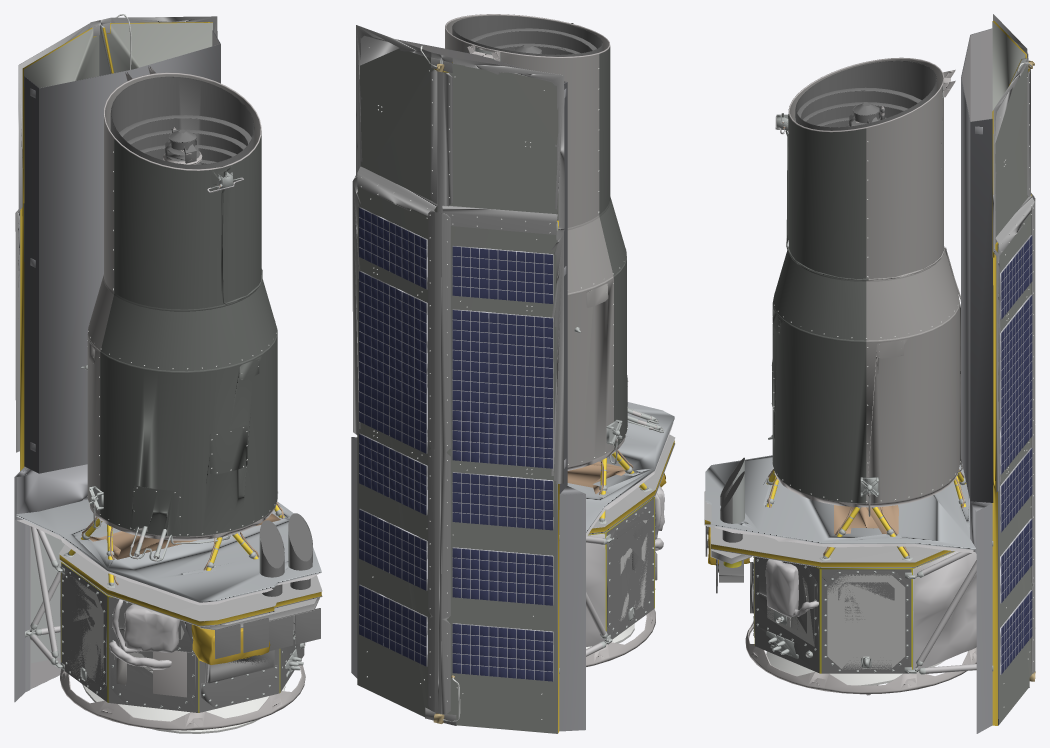
File: spitzer.glb
The picture shows the model from 3 angles, left to right: view 1: azimuth 30°, elevation 25°; view 2: azimuth 150°, elevation 25°; view 3: azimuth 270°, elevation 25°; orthographic projection. The views are drawn at different scales.
Parts seen in each view (by area): view 1: Fake; view 2: Fake; view 3: Fake.
Part boxes in pixels (left/top/right/bottom): Fake: left=14, top=14, right=322, bottom=733; Fake: left=351, top=14, right=675, bottom=733; Fake: left=704, top=14, right=1035, bottom=733.
Bounding box in the file's own units: 1.62 × 4.48 × 2.11.
1 material, 1 textured.
